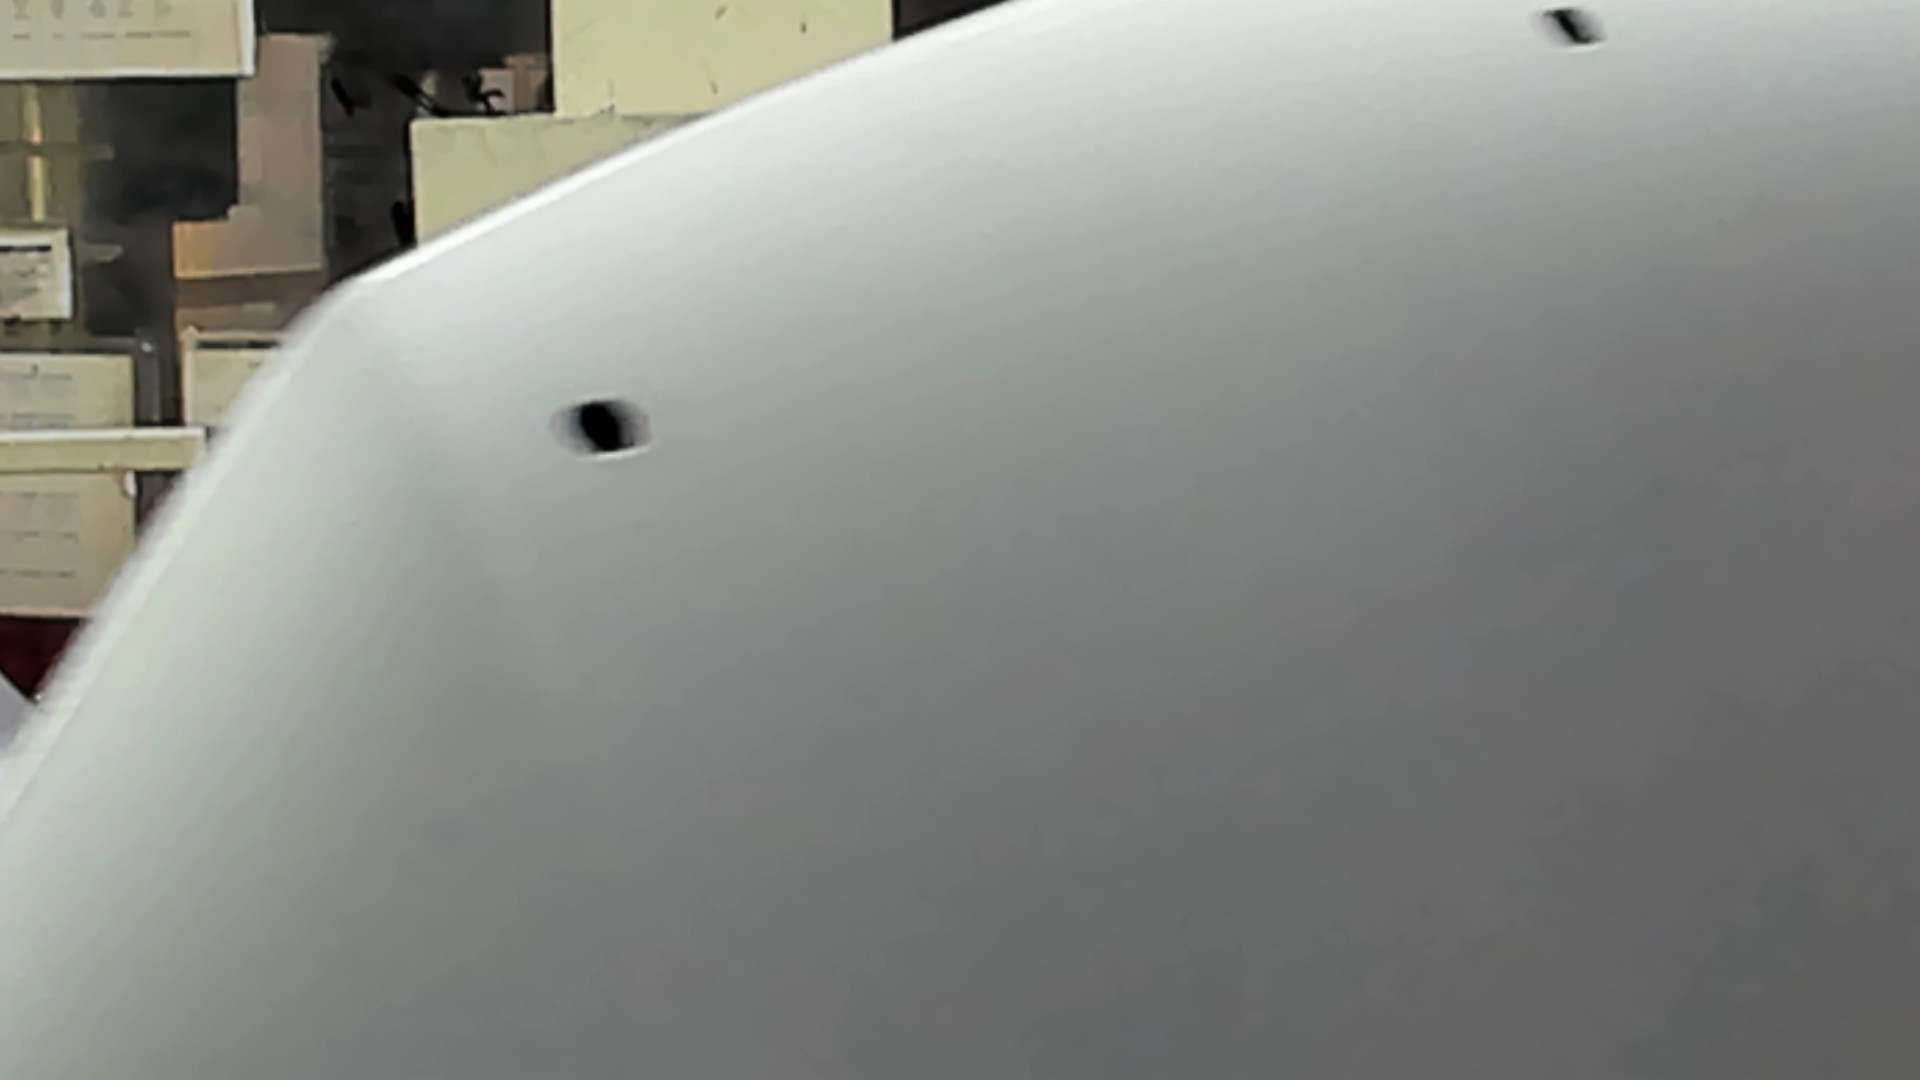amorfo: (546, 394, 662, 465), (1520, 4, 1615, 51)
